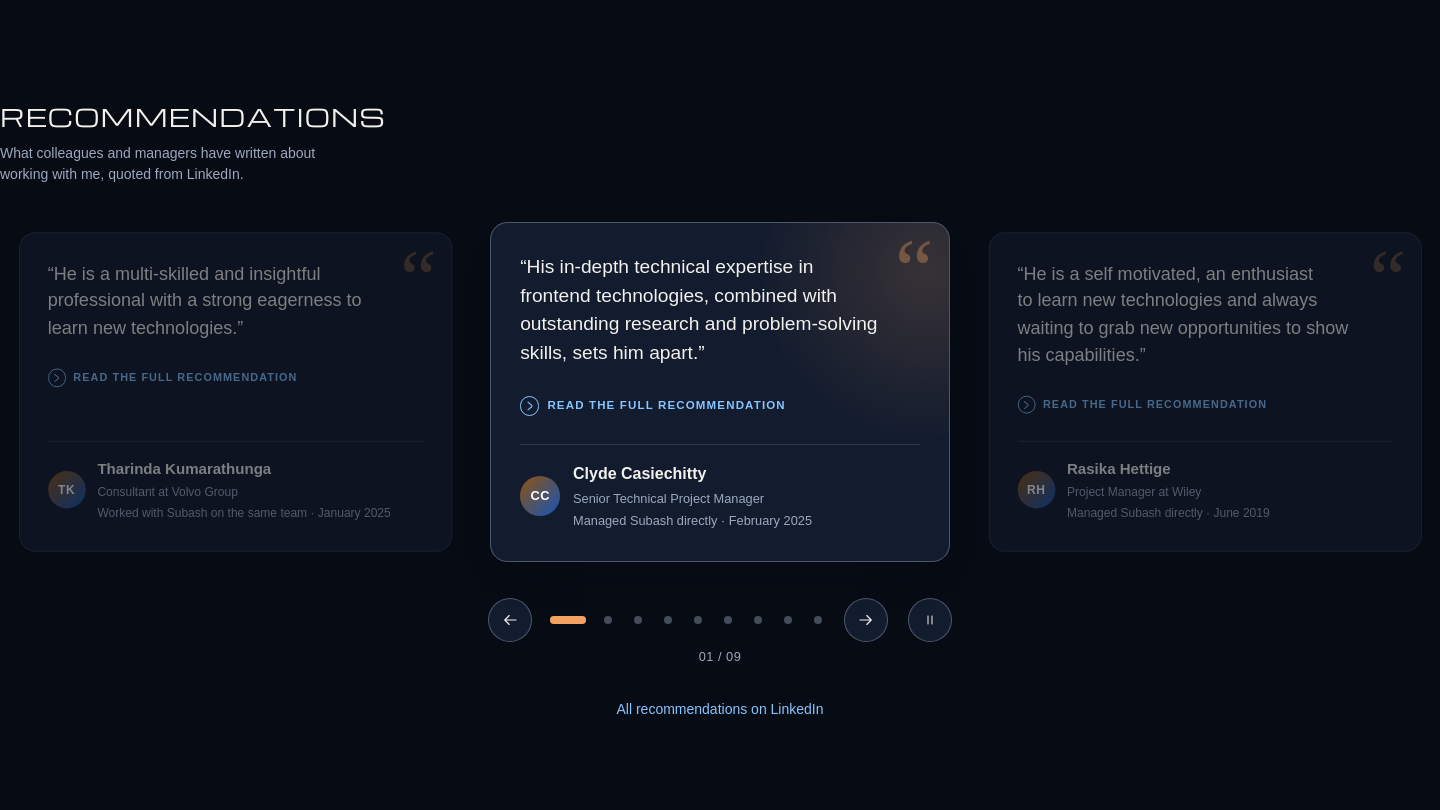
Scenario: Recommendations › opens the full text in a reading panel, steps through and closes
Click the 2nd button "Read the full recommendation". click: (653, 406)
box: x1=520 y1=384 x2=786 y2=428
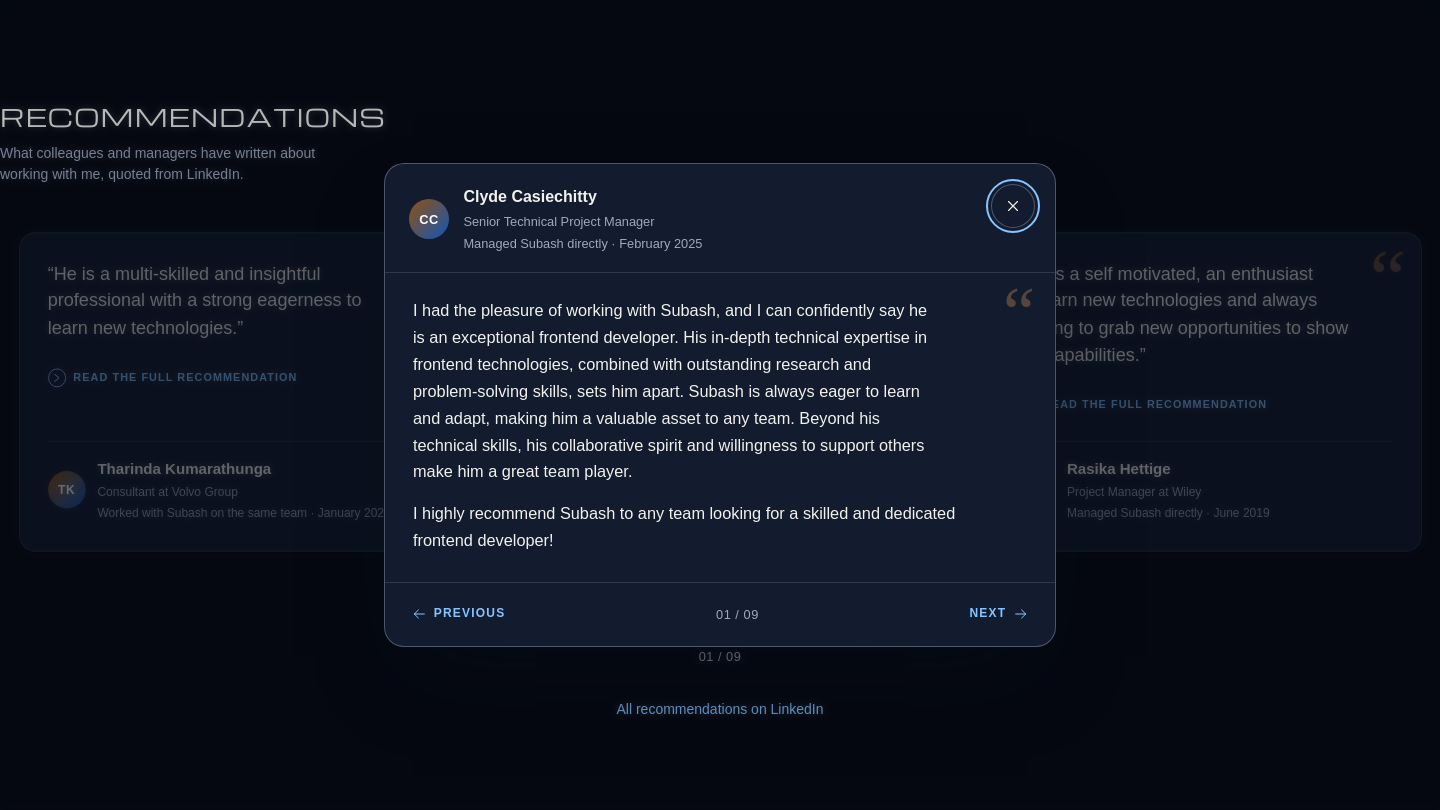
Expected: the dialog "Clyde Casiechitty" shows "I had the pleasure of working with Subash, and I can confidently say he is an exceptional frontend developer. His in-depth technical expertise in frontend techn", x1=413 y1=301 x2=927 y2=480
Click the button "Next". click: (999, 614)
box: x1=960 y1=592 x2=1039 y2=636
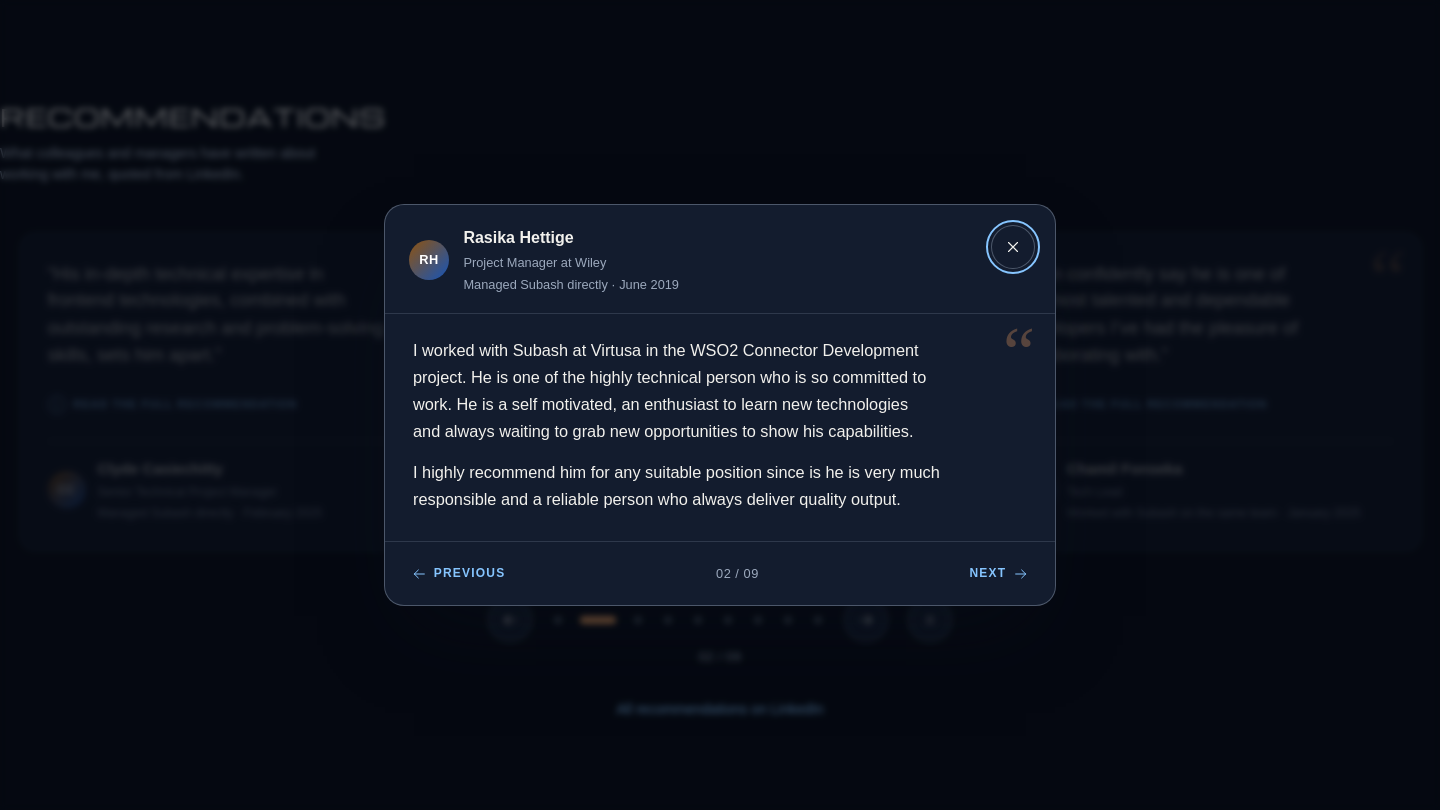
Expected: the dialog "Rasika Hettige" shows "I worked with Subash at Virtusa in the WSO2 Connector Development project. He is one of the highly technical person who is so committed to work. He is a self mo", x1=413 y1=341 x2=926 y2=440
Click the button named "Close". click: (1013, 247)
box: x1=991 y1=225 x2=1035 y2=269
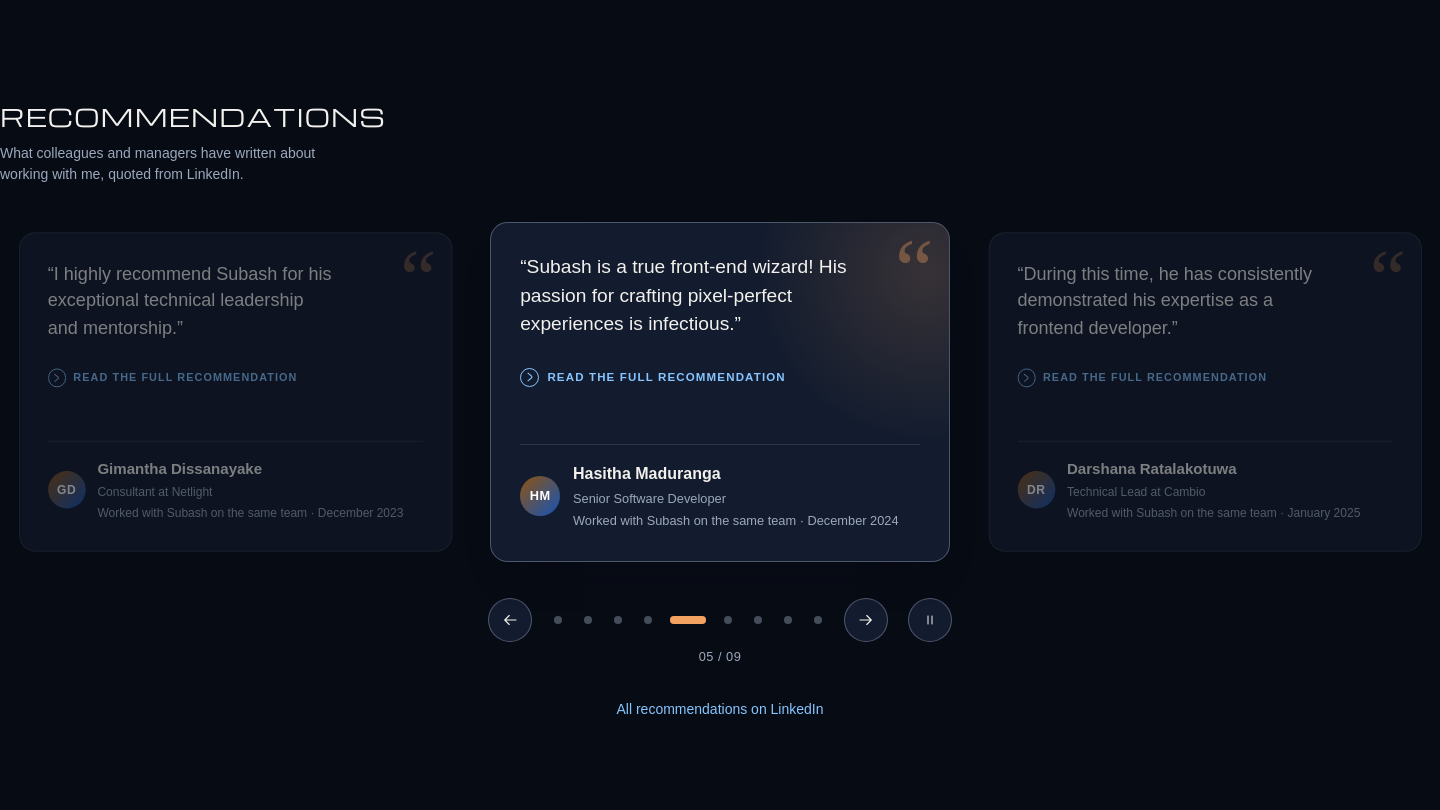
Expected: the dialog is gone
